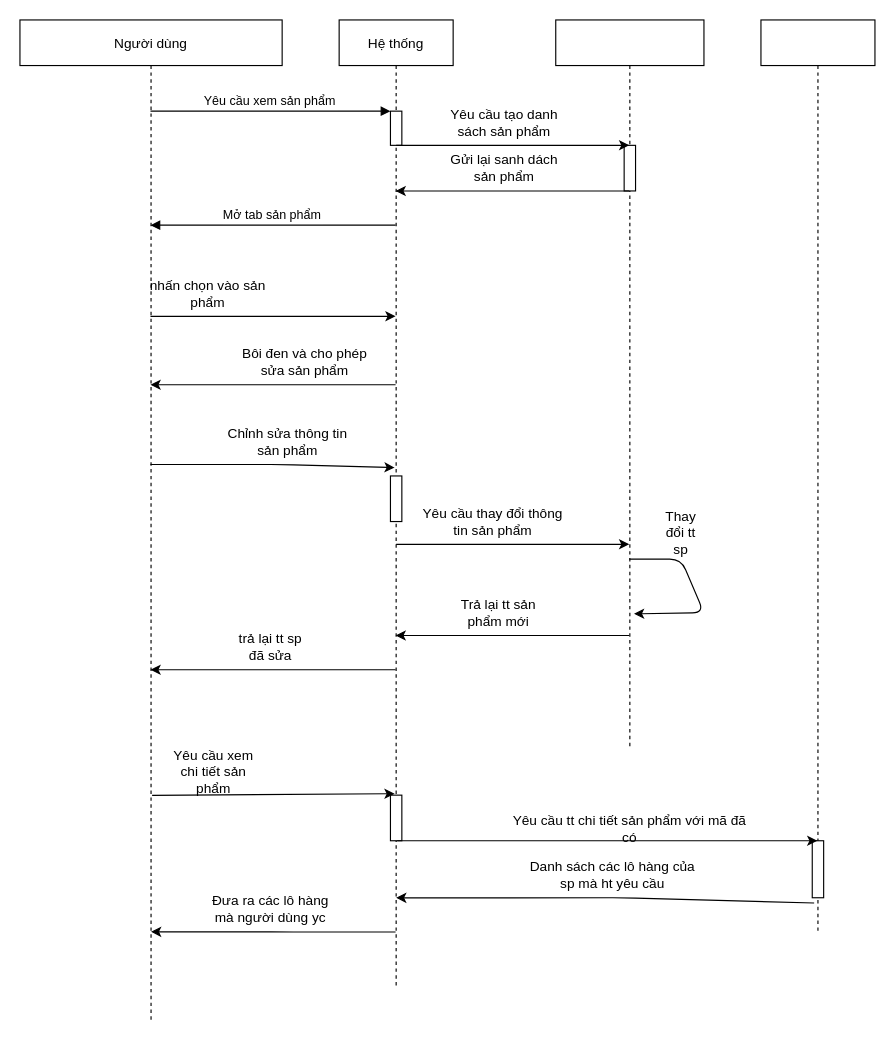
This 895x1043 diagram has some shape labels left out. Each missing label, with the box of its shape:
Shipment: (760, 19, 875, 932)
Sản phẩm: (555, 19, 704, 750)
